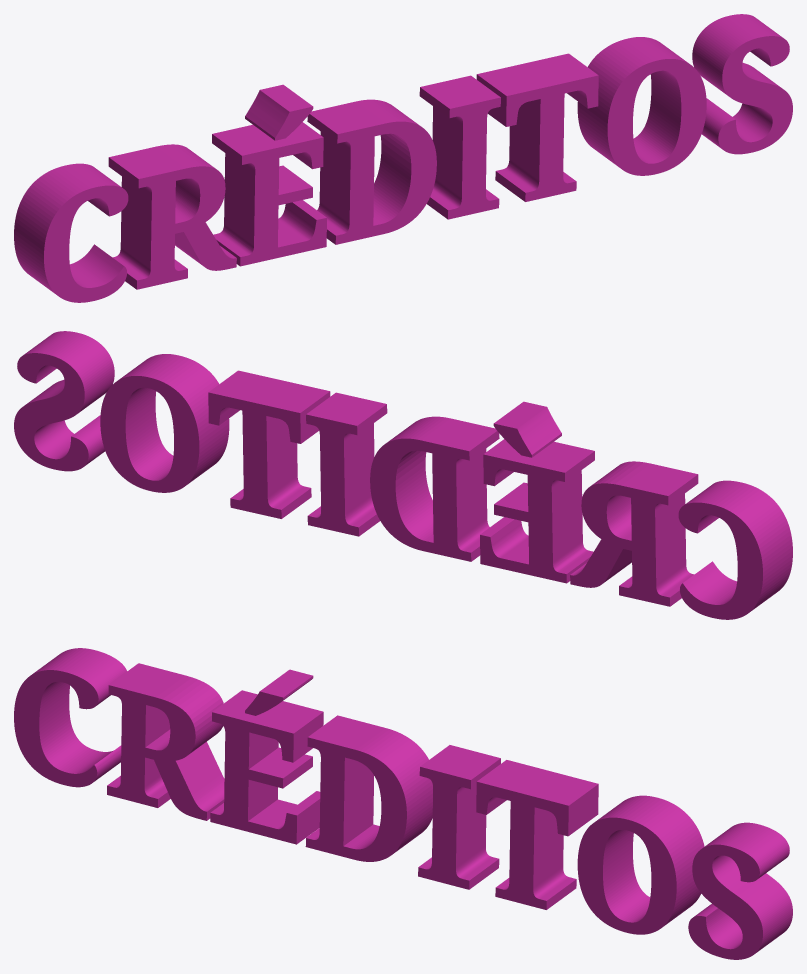
Rendered from CREDITOS.glb.
The picture shows the model from 3 angles, top to bottom: view 1: azimuth 30°, elevation 25°; view 2: azimuth 150°, elevation 25°; view 3: azimuth 330°, elevation 25°; orthographic projection.
Parts seen in each view (by area): view 1: Mesh_Mesh_head_geo.001_lambert2SG.001; view 2: Mesh_Mesh_head_geo.001_lambert2SG.001; view 3: Mesh_Mesh_head_geo.001_lambert2SG.001.
Boxes of the visible parts, x1,y1,x2,y2 form: Mesh_Mesh_head_geo.001_lambert2SG.001: (14,14,792,302); Mesh_Mesh_head_geo.001_lambert2SG.001: (14,331,792,619); Mesh_Mesh_head_geo.001_lambert2SG.001: (14,648,792,959).
Size of the model in its own units: 144 by 28.3 by 10.
